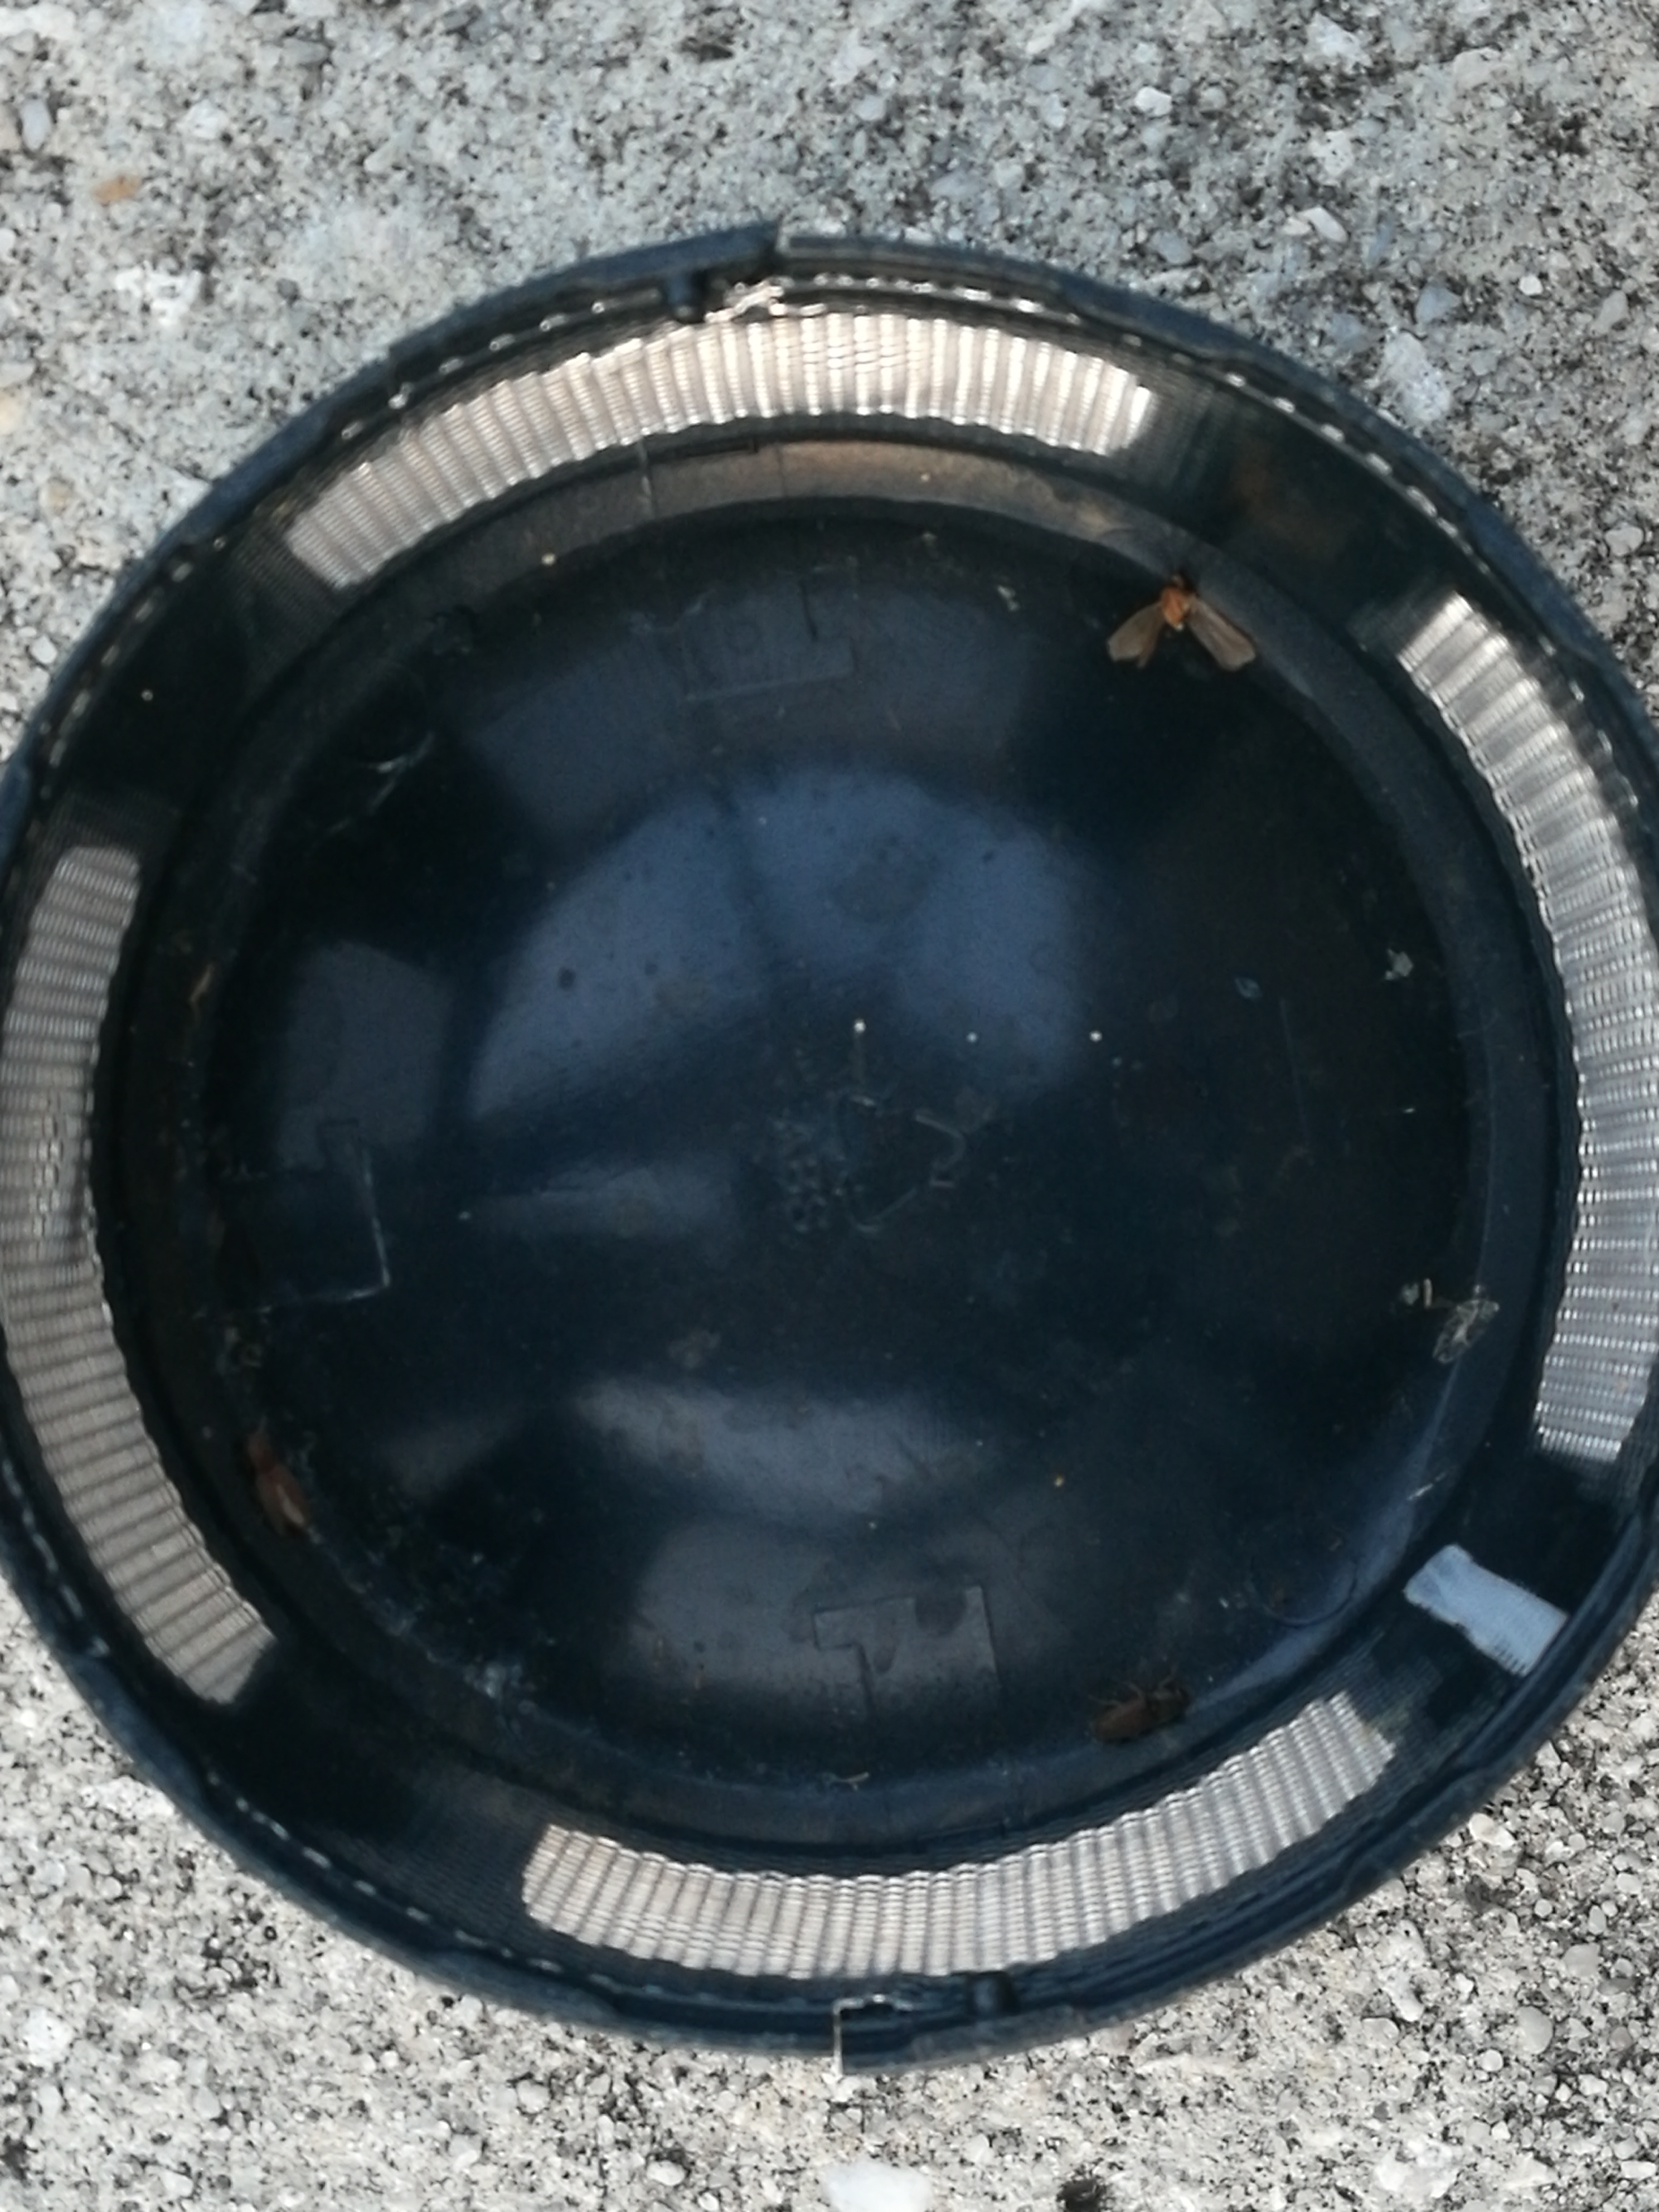mosquito: (246, 1432, 308, 1536), (1098, 1686, 1190, 1740)
moth: (1107, 590, 1255, 665)
